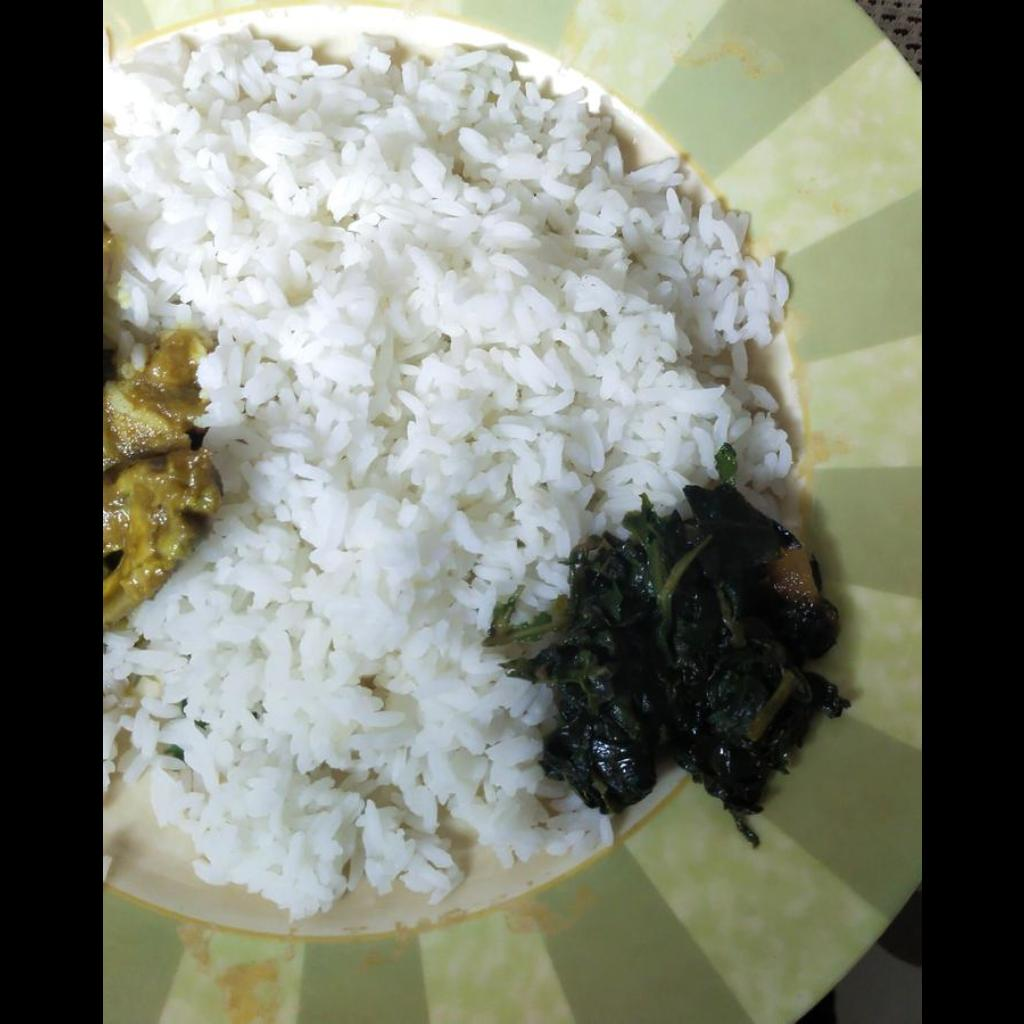rice: (102, 28, 788, 919)
shak: (505, 492, 855, 849)
